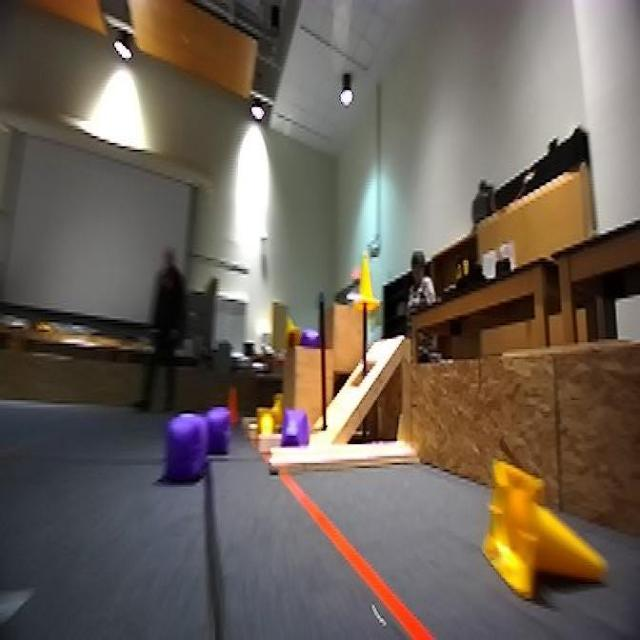frc_cone: (493, 444, 626, 611), (352, 248, 378, 310), (255, 409, 283, 439)
frc_cube: (161, 417, 208, 478), (203, 405, 233, 458), (279, 407, 308, 444), (293, 322, 325, 349)
